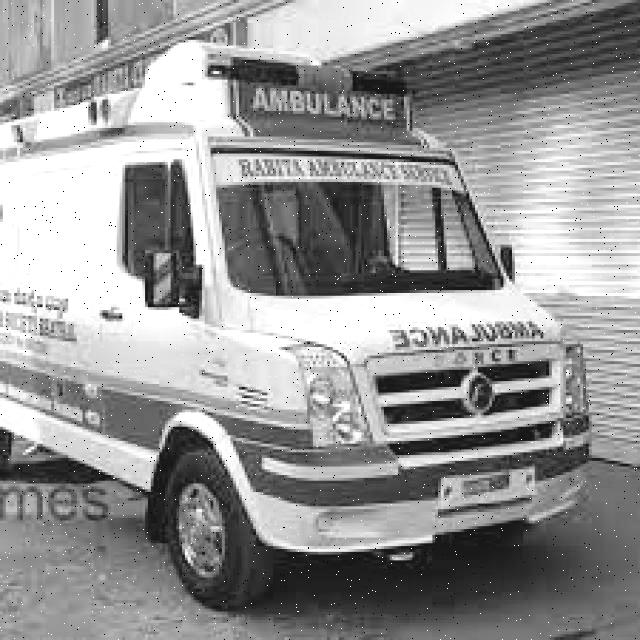LCV: (185, 41, 604, 549)
